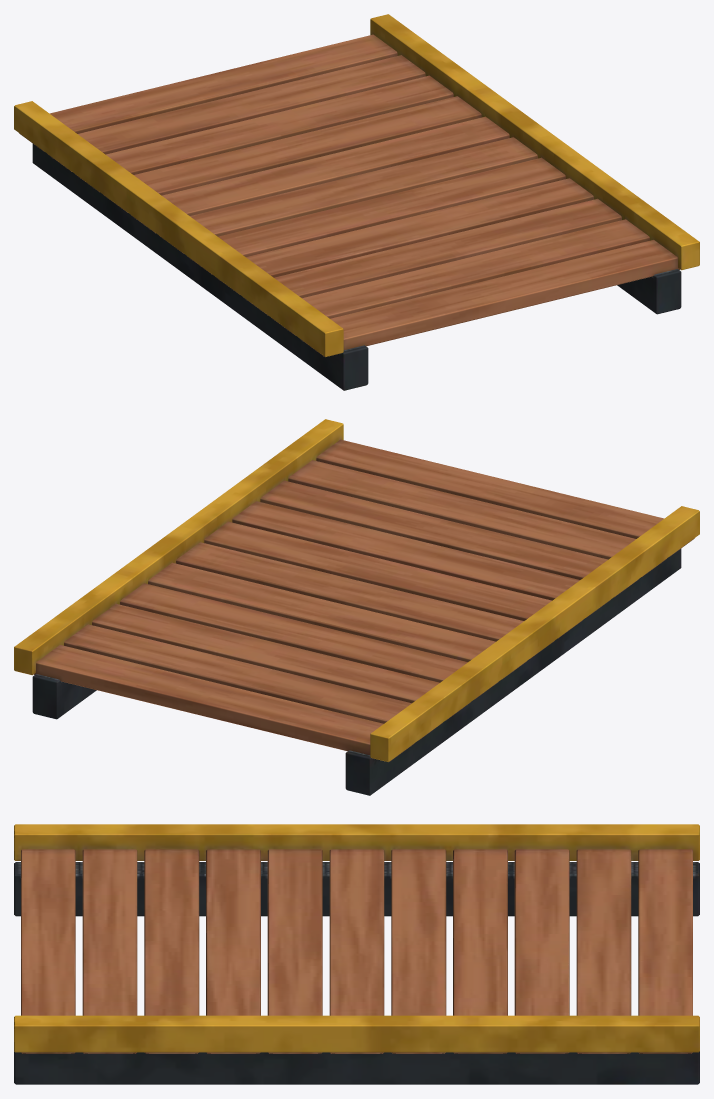
File: bridge_deck_wood.glb
3 views of the same model, one above another, from view 1: azimuth 30°, elevation 25°; view 2: azimuth 150°, elevation 25°; view 3: azimuth 270°, elevation 25° (orthographic). The views are drawn at different scales.
Visible parts, largest first — view 1: BridgeDeckWood; view 2: BridgeDeckWood; view 3: BridgeDeckWood.
Boxes of the visible parts, bbox=[...] form: BridgeDeckWood: bbox=[14, 14, 699, 390]; BridgeDeckWood: bbox=[14, 419, 699, 795]; BridgeDeckWood: bbox=[14, 824, 699, 1084].
Size of the model in its own units: 3.48 by 0.5597 by 5.
Materials: 1 (1 with a texture image).
